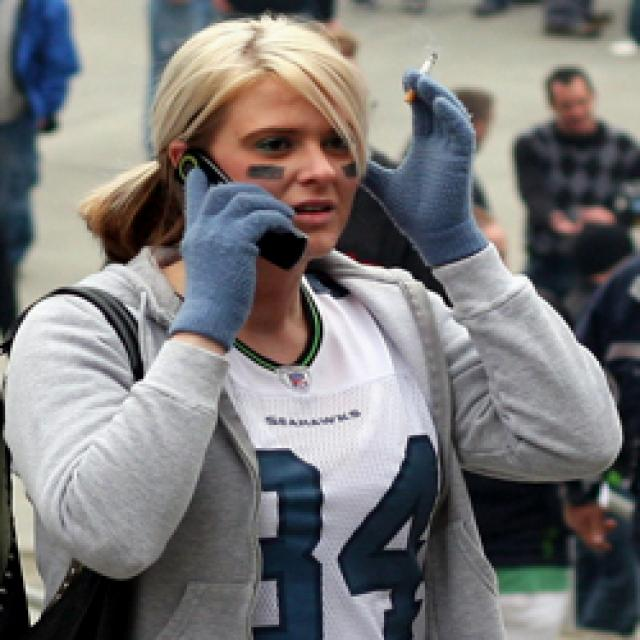Smooking: (403, 46, 441, 105)
